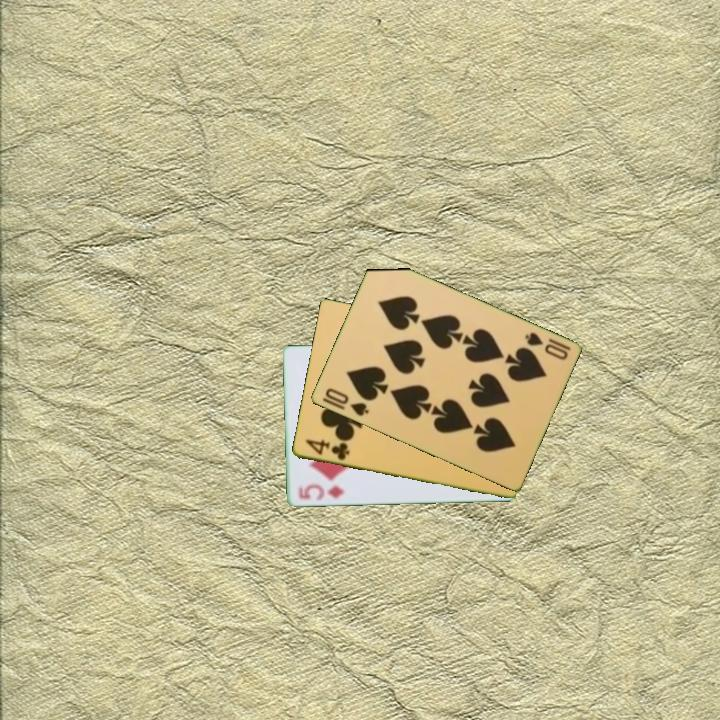10s: (318, 384, 372, 419), (521, 328, 574, 363)
4c: (301, 436, 352, 464)
5d: (295, 482, 347, 503)
